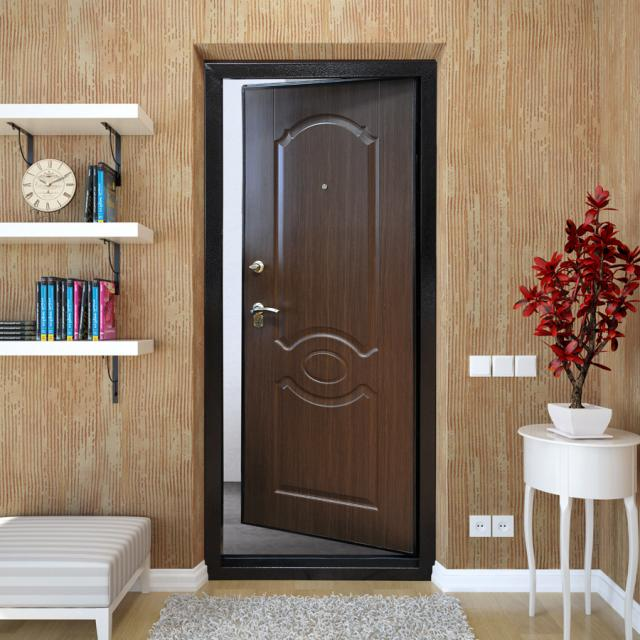open: (200, 58, 429, 570)
